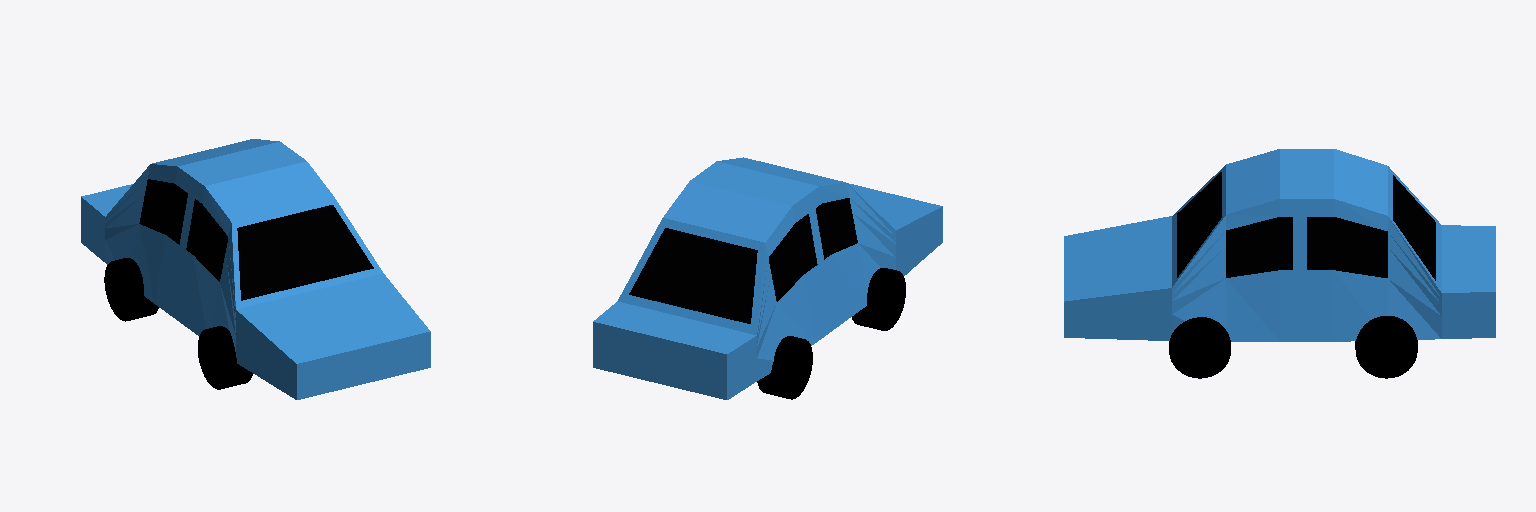
File: car.obj
The picture shows the model from 3 angles: view 1: azimuth 30°, elevation 25°; view 2: azimuth 150°, elevation 25°; view 3: azimuth 270°, elevation 25°; orthographic projection.
Visible parts, largest first — view 1: Car_Cube.012, Cylinder.001, Cylinder; view 2: Car_Cube.012, Cylinder.001, Cylinder; view 3: Car_Cube.012, Cylinder.002, Cylinder.003.
Boxes of the visible parts, x1,y1,x2,y2 form: Car_Cube.012: [81, 139, 430, 399]; Cylinder.001: [104, 258, 158, 321]; Cylinder: [198, 326, 252, 389]; Car_Cube.012: [593, 157, 942, 399]; Cylinder.001: [757, 336, 812, 399]; Cylinder: [852, 268, 905, 330]; Car_Cube.012: [1064, 149, 1495, 341]; Cylinder.002: [1355, 316, 1417, 378]; Cylinder.003: [1169, 317, 1230, 378].
Bounding box in the file's own units: 0.8862 × 0.8419 × 2.